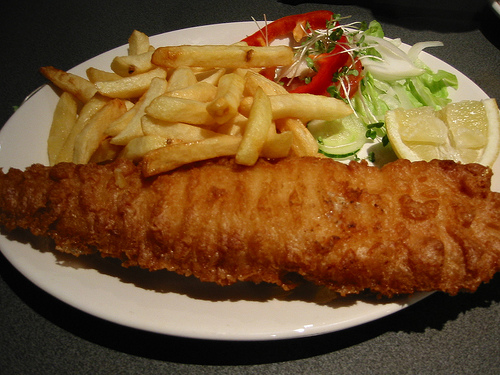fish: (1, 156, 497, 300)
